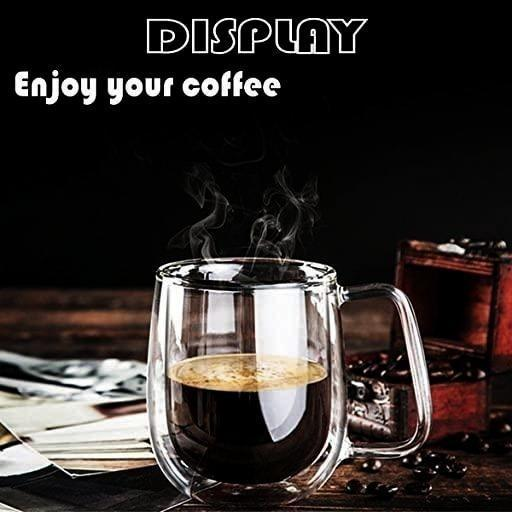glass-mug: (138, 250, 436, 512)
